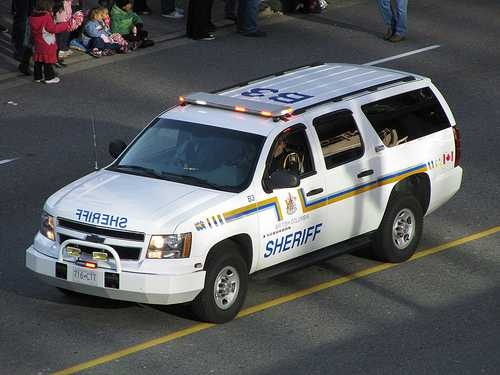Police Van: (30, 62, 466, 320)
